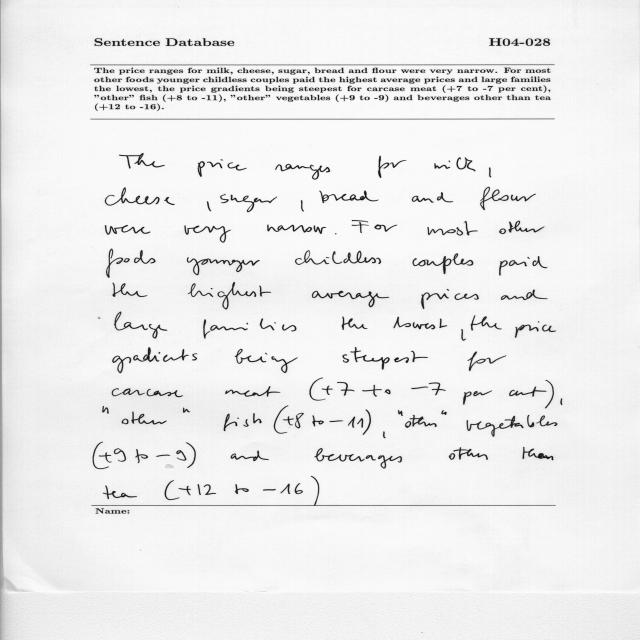word: (467, 399, 563, 437), (235, 476, 320, 506), (188, 282, 271, 310), (113, 348, 197, 374), (342, 348, 428, 370), (203, 319, 296, 339), (314, 448, 402, 469), (99, 312, 167, 338), (235, 349, 298, 373), (106, 249, 156, 278), (187, 258, 260, 276), (295, 250, 381, 265), (480, 187, 536, 210), (105, 188, 175, 206), (413, 254, 473, 275), (312, 291, 389, 307), (421, 289, 479, 309), (329, 409, 371, 435), (220, 195, 277, 213), (499, 256, 547, 276), (198, 159, 247, 177), (275, 164, 330, 180), (184, 225, 231, 243), (274, 406, 304, 434), (320, 191, 379, 204), (427, 221, 478, 236), (468, 352, 507, 371), (164, 480, 201, 500), (120, 153, 165, 169), (515, 321, 556, 338), (337, 382, 382, 397), (112, 388, 183, 397), (394, 317, 447, 329), (434, 157, 476, 172), (378, 156, 406, 178), (225, 386, 280, 397), (499, 221, 545, 234), (352, 220, 397, 233), (122, 412, 167, 425), (309, 378, 333, 401), (267, 225, 326, 234), (176, 442, 196, 468), (93, 442, 112, 469), (449, 447, 488, 460), (113, 283, 147, 297), (471, 316, 502, 331), (501, 290, 547, 300), (411, 383, 446, 396), (412, 192, 453, 203), (106, 225, 151, 235), (223, 414, 249, 431), (103, 486, 137, 499), (405, 415, 437, 428), (523, 447, 554, 460), (509, 387, 547, 397), (231, 451, 269, 461), (342, 317, 367, 330), (545, 380, 554, 408), (114, 448, 126, 462), (136, 449, 148, 463), (312, 416, 324, 427), (204, 484, 216, 495), (463, 392, 472, 405), (473, 391, 492, 397), (253, 414, 262, 424), (295, 483, 303, 494), (461, 329, 466, 341), (103, 406, 109, 414), (183, 407, 190, 413), (207, 202, 211, 212), (301, 200, 304, 212), (385, 390, 391, 395), (398, 410, 403, 416), (441, 410, 447, 415), (156, 455, 170, 457), (489, 168, 491, 178), (383, 432, 386, 438), (335, 234, 337, 235)
